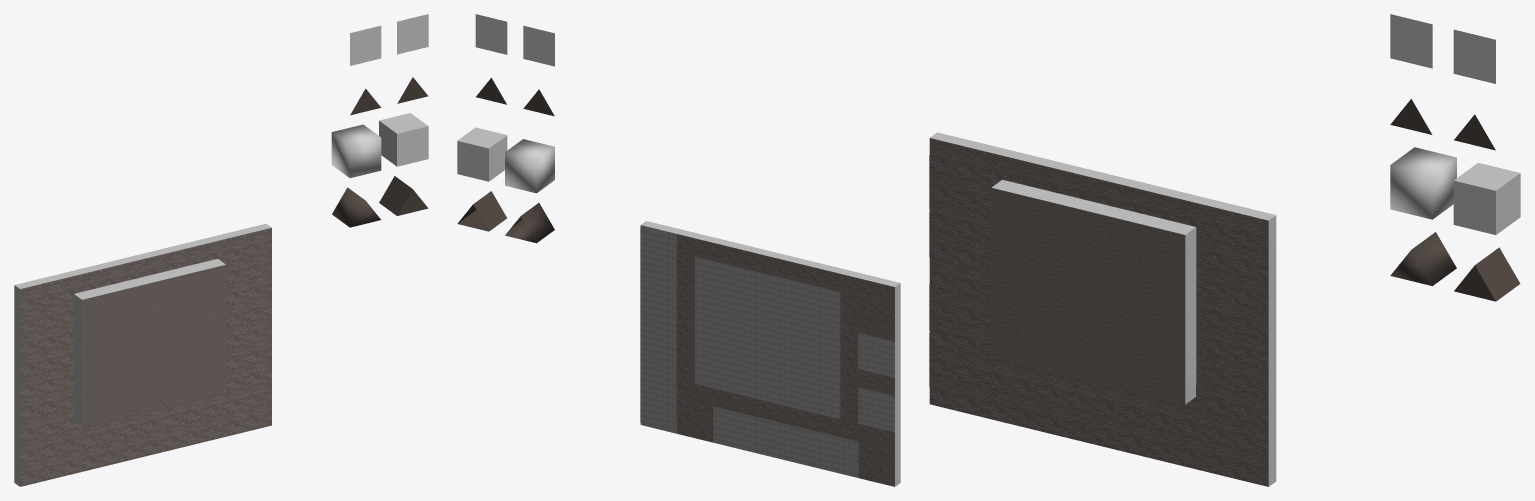
The model's file is 3ypworld2.obj.
3 renders of one model, left to right at view 1: azimuth 30°, elevation 25°; view 2: azimuth 150°, elevation 25°; view 3: azimuth 330°, elevation 25°, orthographic. The views are drawn at different scales.
Parts seen in each view (by area): view 1: Walls_Cube_Ceiling, Walls.001_Cube.003_Default, Walls.001_Cube.003_Ceiling, Walls_Cube_WhiteWalkBrick, Walls_Cube_InteriorWall; view 2: Walls_Cube_FloorStoneTiles, Walls_Cube_WoodFloorCorridoor, Walls.001_Cube.003_Default, Walls.001_Cube.003_Ceiling, Walls_Cube_InteriorWall; view 3: Walls_Cube_Ceiling, Walls.001_Cube.003_Default, Walls.001_Cube.003_Ceiling, Walls_Cube_WhiteWalkBrick, Walls_Cube_External, Walls_Cube_InteriorWall.
Part boxes in pixels (x1,y1,x2,y2): Walls_Cube_Ceiling: [20, 228, 271, 486]; Walls.001_Cube.003_Default: [331, 14, 428, 178]; Walls.001_Cube.003_Ceiling: [332, 77, 428, 227]; Walls_Cube_WhiteWalkBrick: [74, 259, 225, 425]; Walls_Cube_InteriorWall: [14, 232, 235, 486]; Walls_Cube_FloorStoneTiles: [640, 225, 894, 477]; Walls_Cube_WoodFloorCorridoor: [676, 234, 894, 486]; Walls.001_Cube.003_Default: [457, 14, 554, 193]; Walls.001_Cube.003_Ceiling: [457, 78, 554, 243]; Walls_Cube_InteriorWall: [677, 229, 900, 486]; Walls_Cube_Ceiling: [929, 138, 1268, 486]; Walls.001_Cube.003_Default: [1390, 14, 1520, 234]; Walls.001_Cube.003_Ceiling: [1390, 99, 1520, 301]; Walls_Cube_WhiteWalkBrick: [992, 179, 1196, 404]; Walls_Cube_External: [1220, 203, 1276, 486]; Walls_Cube_InteriorWall: [930, 132, 1227, 208].
Bounding box in the file's own units: 132 × 112 × 17.79.
